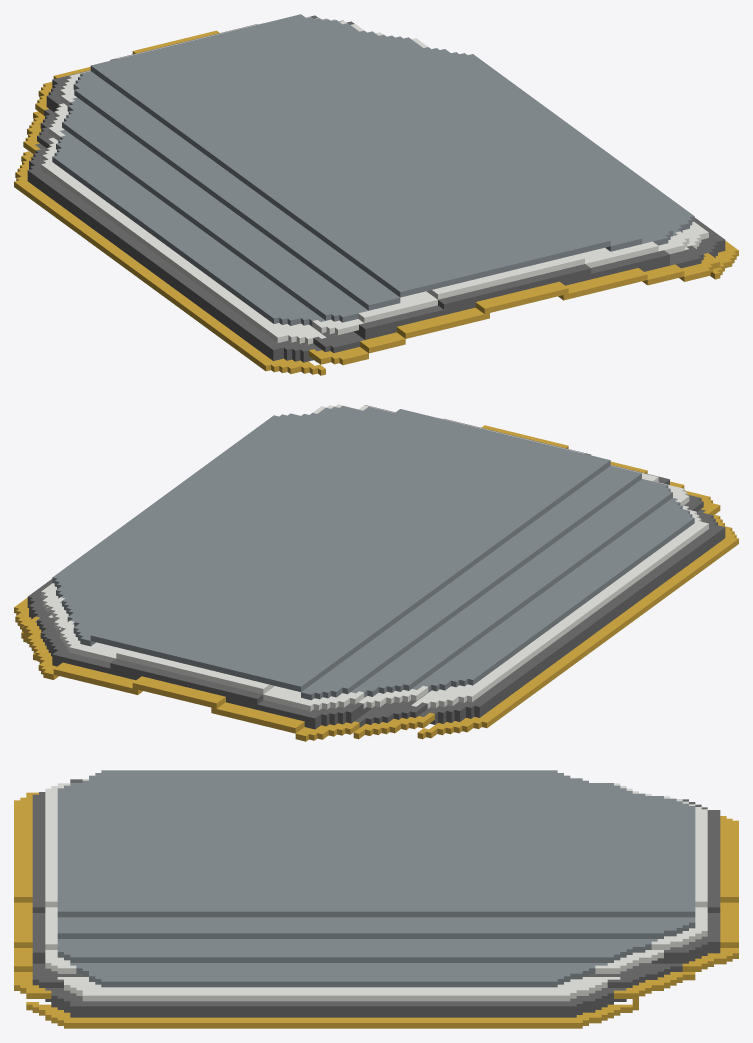
File: eod_plate.glb
3 renders of one model, top to bottom at view 1: azimuth 30°, elevation 25°; view 2: azimuth 150°, elevation 25°; view 3: azimuth 270°, elevation 25°, orthographic. The views are drawn at different scales.
Parts seen in each view (by area): view 1: eod_plate:compound; view 2: eod_plate:compound; view 3: eod_plate:compound.
Part boxes in pixels (x1,y1,x2,y2): eod_plate:compound: (14,14,738,375); eod_plate:compound: (14,404,738,741); eod_plate:compound: (14,770,738,1028).
Bounding box in the file's own units: 0.36 × 0.036 × 0.464.
